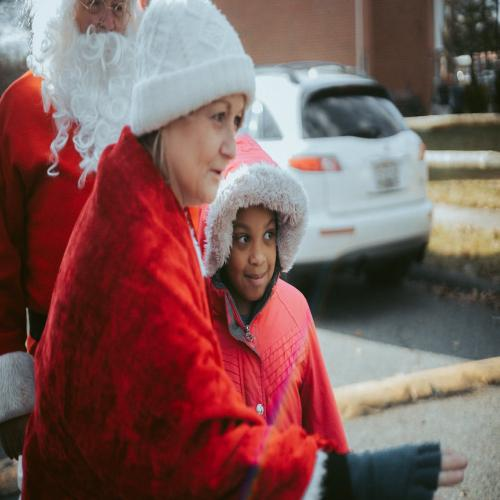Santa: (0, 0, 134, 446)
